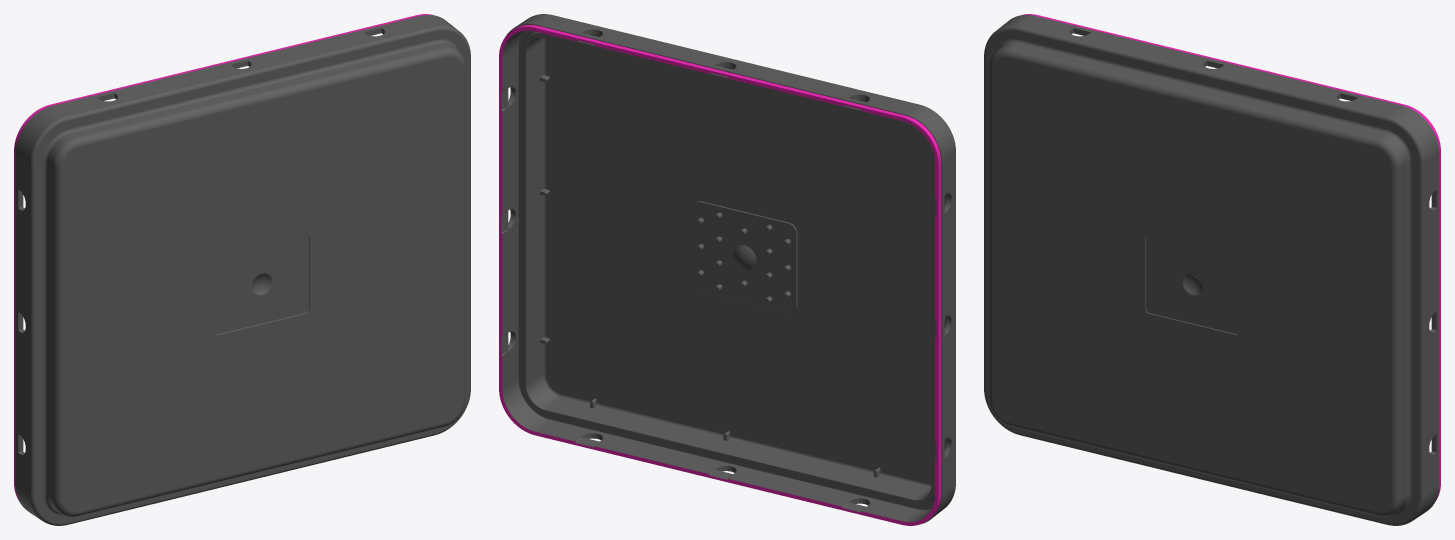
The model's file is _502_MFP0044.gltf.
The picture shows the model from 3 angles, left to right: view 1: azimuth 30°, elevation 25°; view 2: azimuth 150°, elevation 25°; view 3: azimuth 330°, elevation 25°; orthographic projection.
Parts seen in each view (by area): view 1: mesh9489, mesh9464, mesh9514, mesh9538, mesh9558, mesh9477, mesh9485, mesh9470, mesh9458, mesh9475, mesh9482, mesh9462 (+8 smaller); view 2: mesh9159, mesh9118, mesh9434, mesh9244, mesh9239, mesh9577, mesh9215, mesh9538, mesh9517, mesh9558, mesh9269, mesh9437 (+13 smaller); view 3: mesh9489, mesh9464, mesh9514, mesh9538, mesh9518, mesh9477, mesh9479, mesh9470, mesh9458, mesh9475, mesh9473, mesh9457 (+8 smaller).
Boxes of the visible parts, x1=… form: mesh9489: x1=63, y1=57, x2=461, y2=512; mesh9464: x1=35, y1=30, x2=468, y2=523; mesh9514: x1=216, y1=235, x2=308, y2=333; mesh9538: x1=53, y1=16, x2=433, y2=115; mesh9558: x1=15, y1=154, x2=29, y2=494; mesh9477: x1=76, y1=48, x2=446, y2=147; mesh9485: x1=53, y1=166, x2=63, y2=499; mesh9470: x1=68, y1=39, x2=437, y2=133; mesh9458: x1=67, y1=26, x2=435, y2=120; mesh9475: x1=71, y1=44, x2=441, y2=137; mesh9482: x1=48, y1=163, x2=53, y2=497; mesh9462: x1=30, y1=163, x2=35, y2=495; mesh9159: x1=546, y1=38, x2=931, y2=484; mesh9118: x1=693, y1=202, x2=796, y2=312; mesh9434: x1=499, y1=27, x2=938, y2=525; mesh9244: x1=522, y1=33, x2=935, y2=504; mesh9239: x1=546, y1=398, x2=926, y2=498; mesh9577: x1=536, y1=420, x2=915, y2=520; mesh9215: x1=527, y1=43, x2=541, y2=384; mesh9538: x1=538, y1=15, x2=918, y2=113; mesh9517: x1=503, y1=48, x2=517, y2=388; mesh9558: x1=942, y1=152, x2=955, y2=493; mesh9269: x1=519, y1=30, x2=946, y2=509; mesh9437: x1=938, y1=162, x2=941, y2=495; mesh9489: x1=993, y1=57, x2=1391, y2=512; mesh9464: x1=986, y1=30, x2=1419, y2=523; mesh9514: x1=1146, y1=235, x2=1238, y2=333; mesh9538: x1=1021, y1=16, x2=1401, y2=115; mesh9518: x1=1425, y1=154, x2=1439, y2=494; mesh9477: x1=1008, y1=48, x2=1378, y2=147; mesh9479: x1=1391, y1=166, x2=1401, y2=499; mesh9470: x1=1017, y1=39, x2=1386, y2=133; mesh9458: x1=1019, y1=26, x2=1387, y2=120; mesh9475: x1=1013, y1=44, x2=1383, y2=137; mesh9473: x1=1401, y1=163, x2=1406, y2=497; mesh9457: x1=1419, y1=163, x2=1424, y2=495.
Bounding box in the file's own units: 0.1324 × 0.1174 × 0.015.
